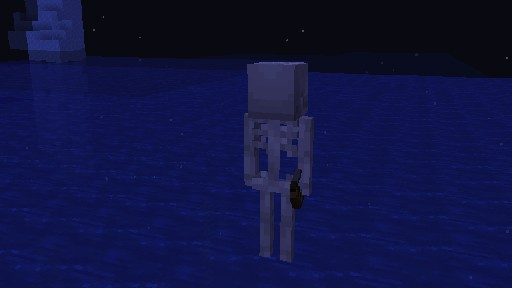skeleton: (243, 60, 313, 262)
